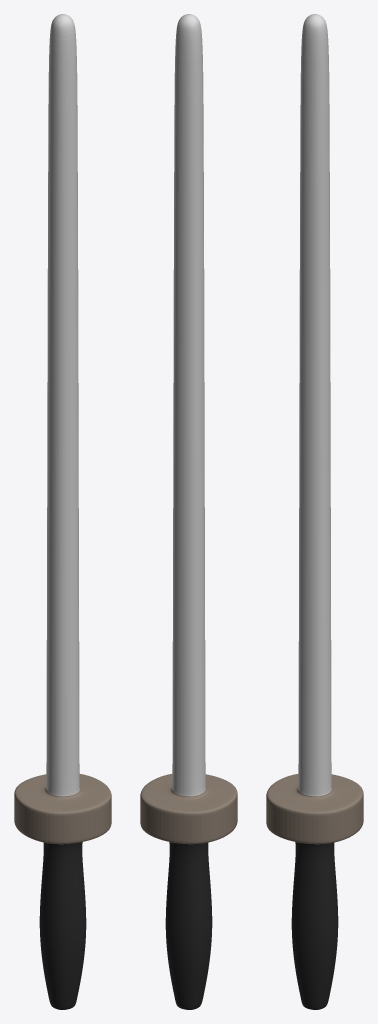
File: spadalaser.fbx
3 views of the same model, side by side, from view 1: azimuth 30°, elevation 25°; view 2: azimuth 150°, elevation 25°; view 3: azimuth 330°, elevation 25° (orthographic).
Visible parts, largest first — view 1: Cube; view 2: Cube; view 3: Cube.
Part boxes in pixels (x1,y1,x2,y2): Cube: [14, 14, 111, 1009]; Cube: [140, 14, 237, 1009]; Cube: [266, 14, 363, 1009].
Bounding box in the file's own units: 358 × 4099 × 358.
